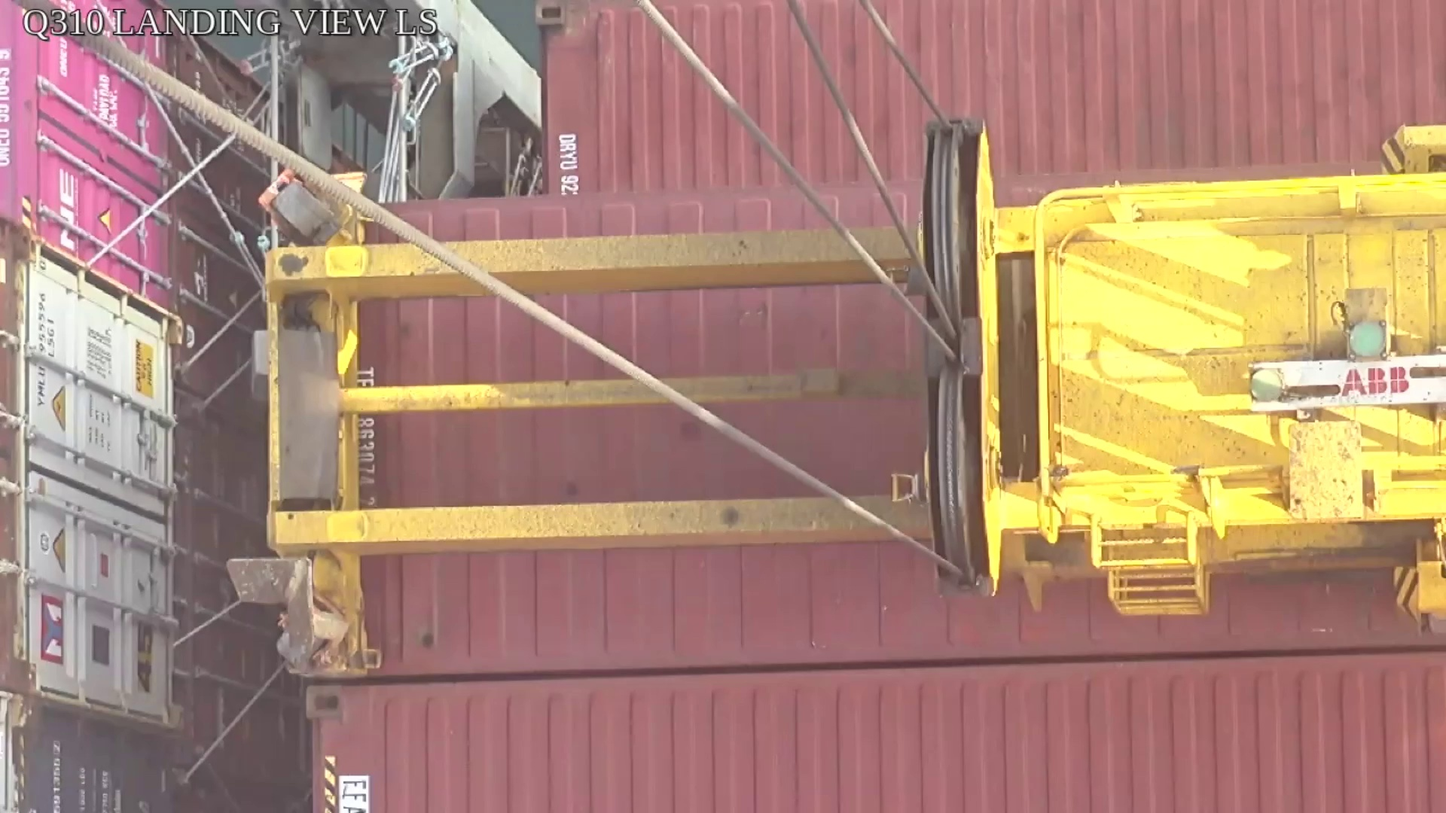aa: (920, 121, 1002, 599)
